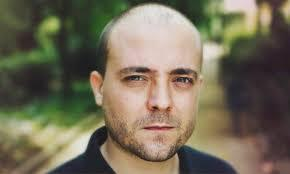Persons: (80, 0, 222, 169)
